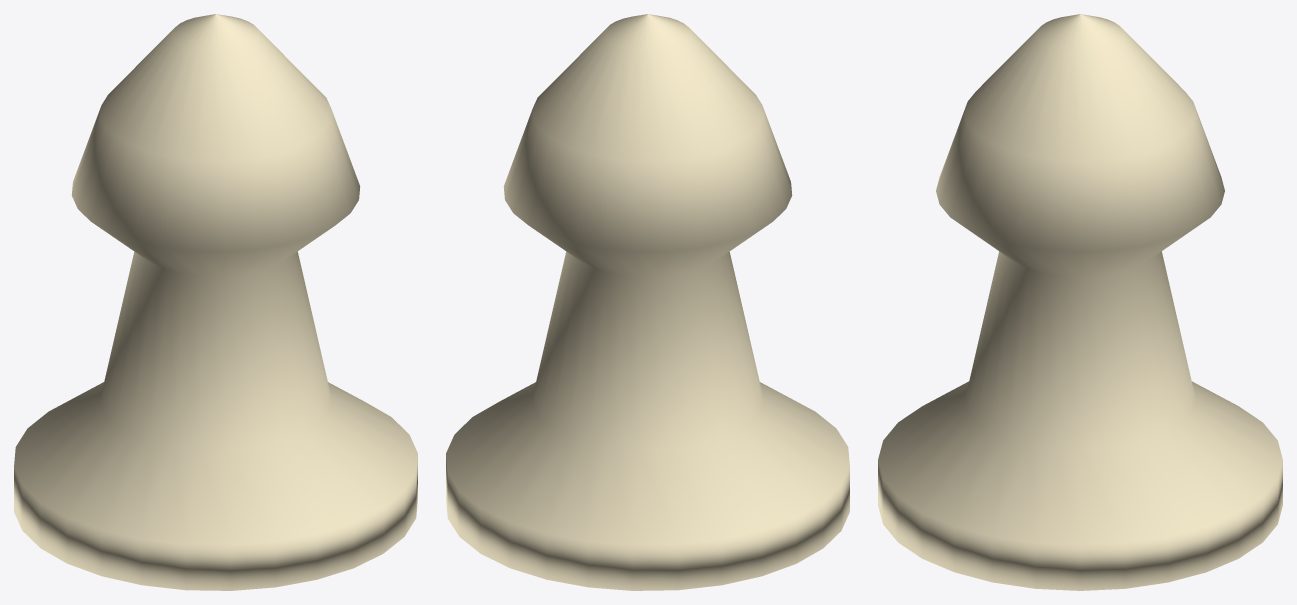
Rendered from w-bishop.glb.
The picture shows the model from 3 angles, left to right: view 1: azimuth 30°, elevation 25°; view 2: azimuth 150°, elevation 25°; view 3: azimuth 270°, elevation 25°; orthographic projection.
Visible parts, largest first — view 1: w-bishop; view 2: w-bishop; view 3: w-bishop.
Boxes of the visible parts, x1=… form: w-bishop: x1=14, y1=14, x2=417, y2=590; w-bishop: x1=446, y1=14, x2=849, y2=590; w-bishop: x1=878, y1=14, x2=1282, y2=590.
Bounding box in the file's own units: 0.56 × 0.75 × 0.56.
